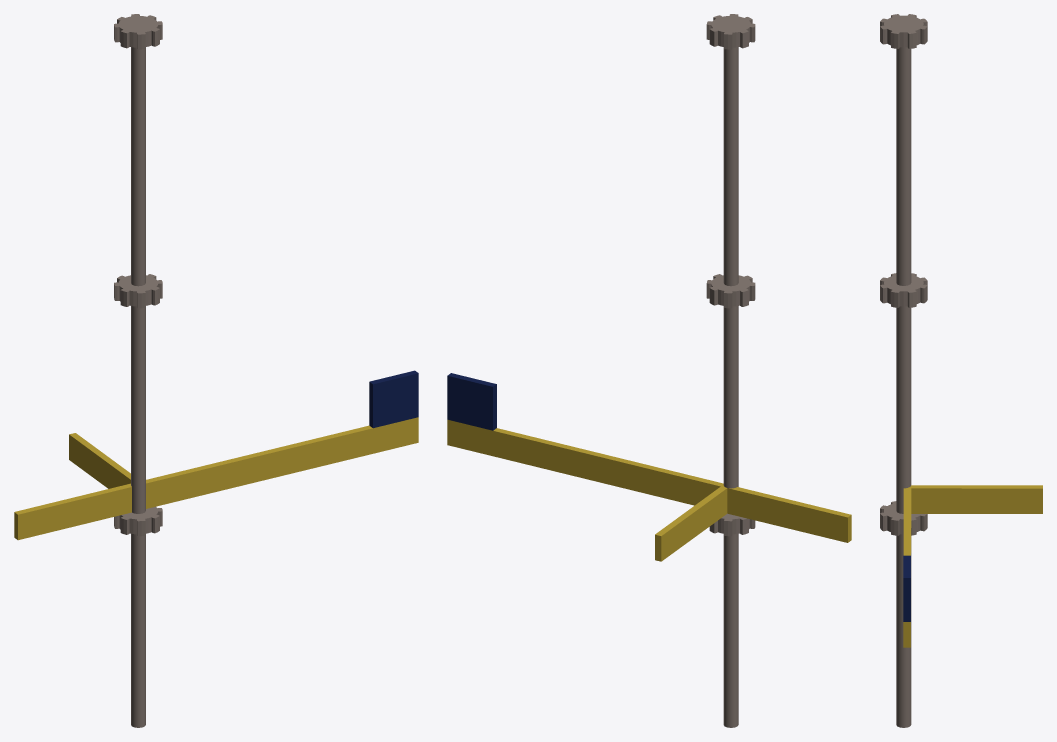
Rendered from rot6_fence.gltf.
The picture shows the model from 3 angles, left to right: view 1: azimuth 30°, elevation 25°; view 2: azimuth 150°, elevation 25°; view 3: azimuth 270°, elevation 25°; orthographic projection.
Parts seen in each view (by area): view 1: rot6.fence; view 2: rot6.fence; view 3: rot6.fence.
Boxes of the visible parts, x1,y1,x2,y2 form: rot6.fence: (14,14,418,727); rot6.fence: (447,14,851,727); rot6.fence: (880,14,1042,727).
Size of the model in its own units: 12.31 by 20.56 by 4.33.
